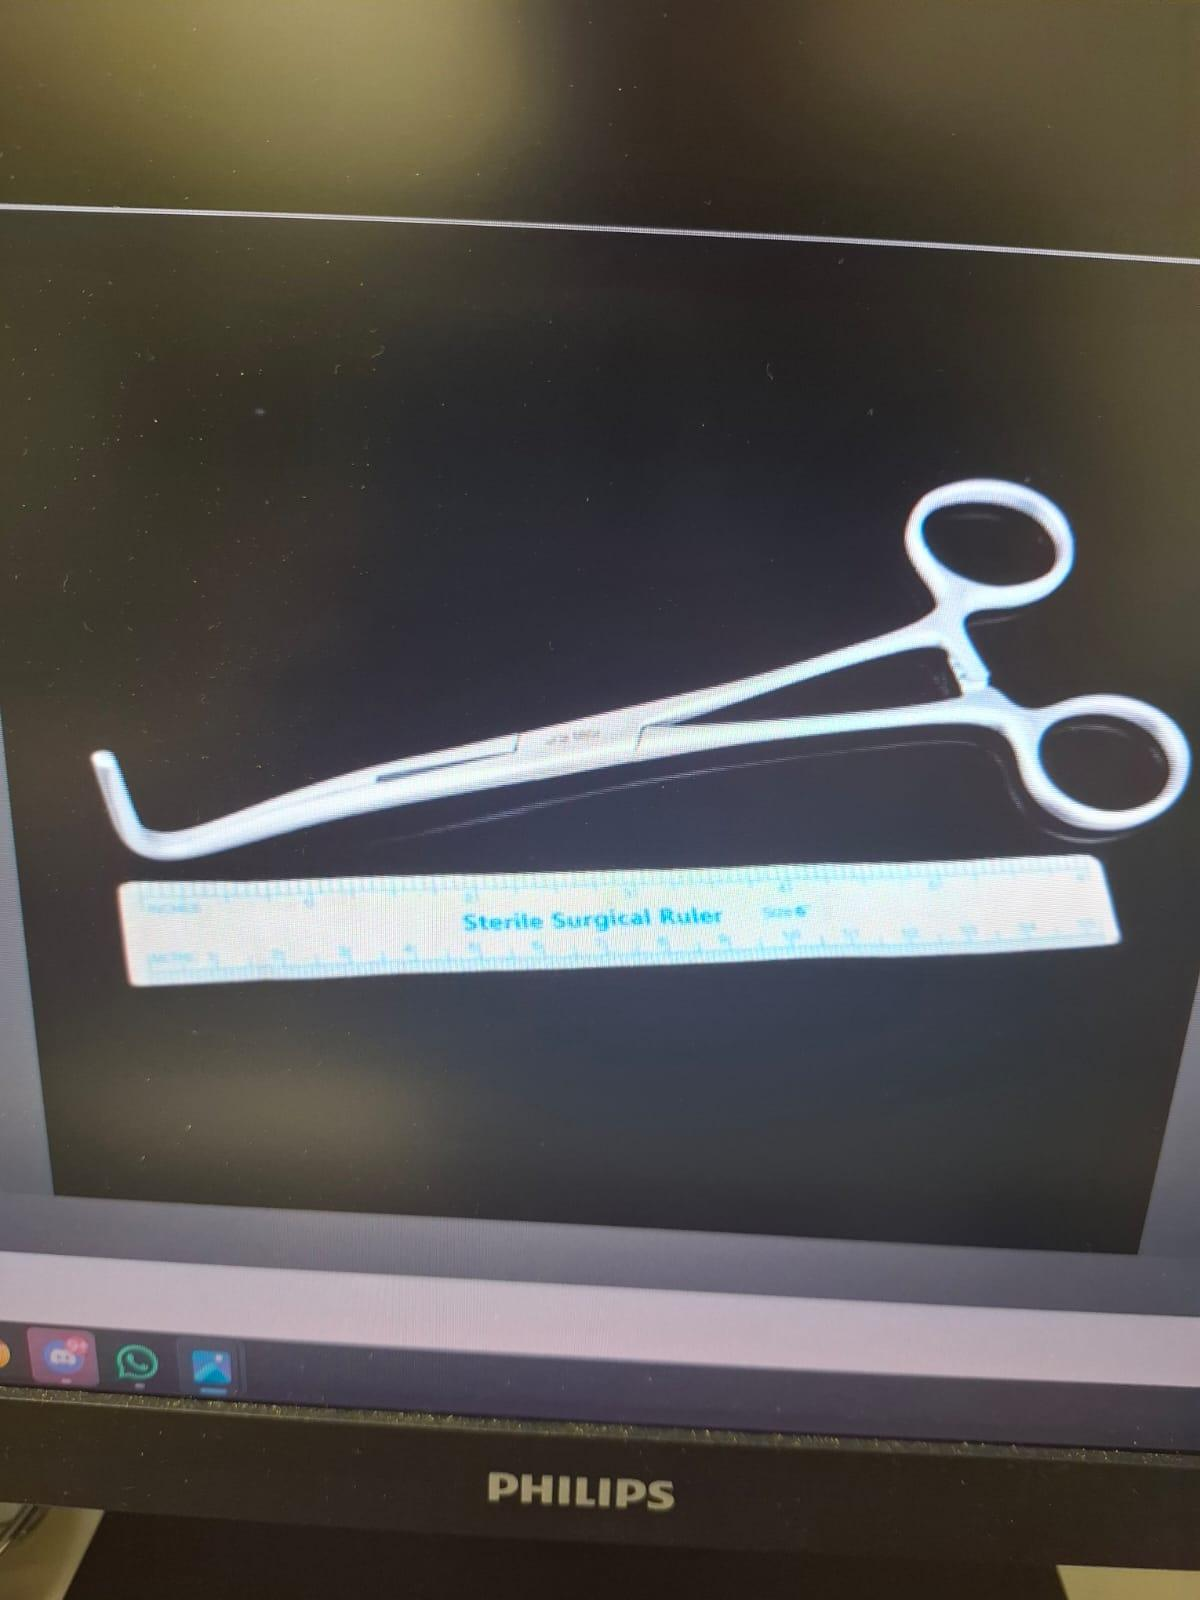Rectangle Cholecystectomy Forceps: (73, 447, 1182, 887)
